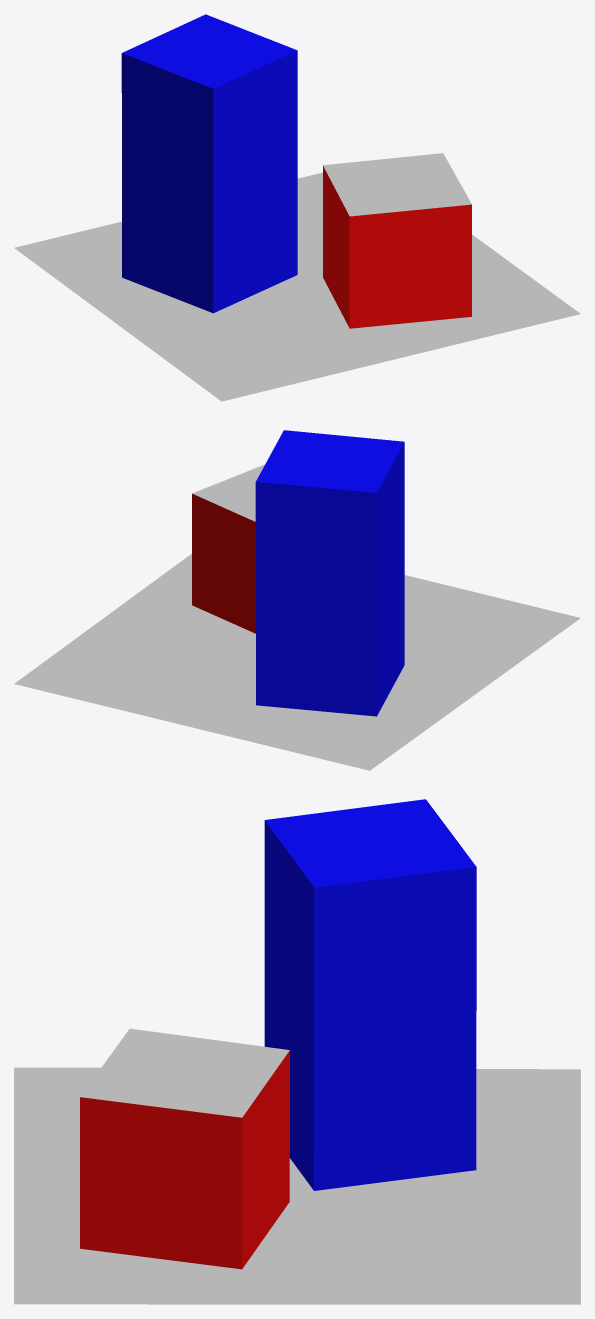
Rendered from textured-cornell-box.obj.
3 renders of one model, top to bottom at view 1: azimuth 30°, elevation 25°; view 2: azimuth 150°, elevation 25°; view 3: azimuth 270°, elevation 25°, orthographic. The views are drawn at different scales.
Parts seen in each view (by area): view 1: tall_box, floor, short_box, short_box_lid; view 2: floor, tall_box, short_box, short_box_lid; view 3: floor, tall_box, short_box, short_box_lid.
Part boxes in pixels (x1,y1,x2,y2): tall_box: (121,14,297,313); floor: (14,172,580,401); short_box: (323,166,471,328); short_box_lid: (323,153,471,216); floor: (14,553,580,770); tall_box: (255,430,404,716); short_box: (192,493,255,633); short_box_lid: (192,464,264,521); floor: (14,1067,580,1304); tall_box: (264,799,476,1190); short_box: (80,1050,289,1269); short_box_lid: (80,1028,289,1117).
Size of the model in its own units: 5.53 by 3.3 by 5.59.
